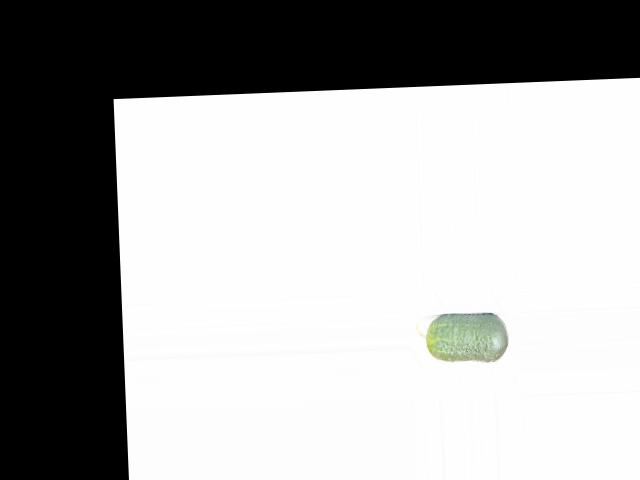cucumber: (415, 312, 509, 364)
